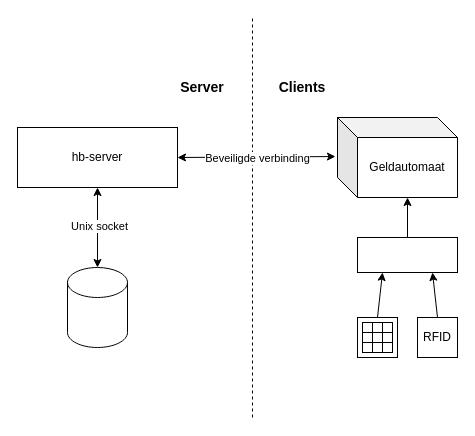
This 475x436 diagram has some shape labels left out. The shapes that lost their labels are listed below. From the top down, each one's box as (x1, y1, x2, y2) in pixels, then its label:
(356, 236, 458, 272): Microcontroller
(66, 266, 128, 348): Database
